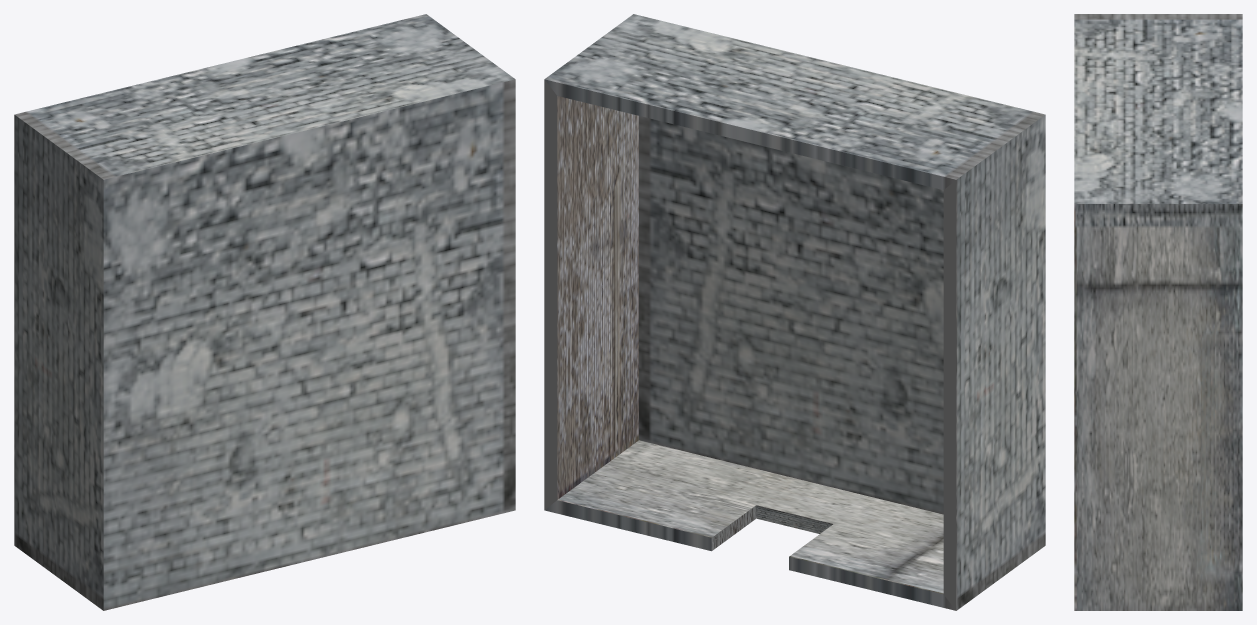
The model's file is 8x8Southdoor_wtf.obj.
3 renders of one model, left to right at view 1: azimuth 30°, elevation 25°; view 2: azimuth 150°, elevation 25°; view 3: azimuth 270°, elevation 25°, orthographic. The views are drawn at different scales.
Visible parts, largest first — view 1: group2; view 2: group2; view 3: group2.
Boxes of the visible parts, box(x1,y1,x2,y2) form: group2: box(14, 14, 515, 610); group2: box(544, 14, 1045, 610); group2: box(1074, 14, 1242, 610).
Size of the model in its own units: 660 by 660 by 248.
